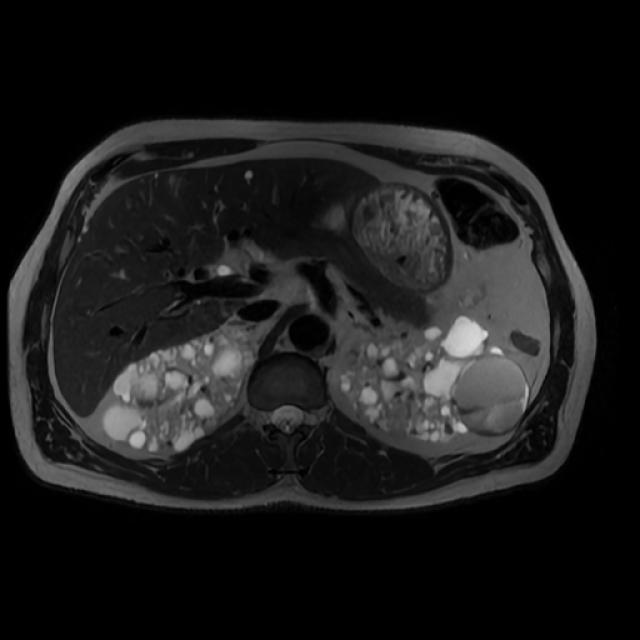sag: (101, 330, 257, 456)
sol: (340, 315, 532, 441)
